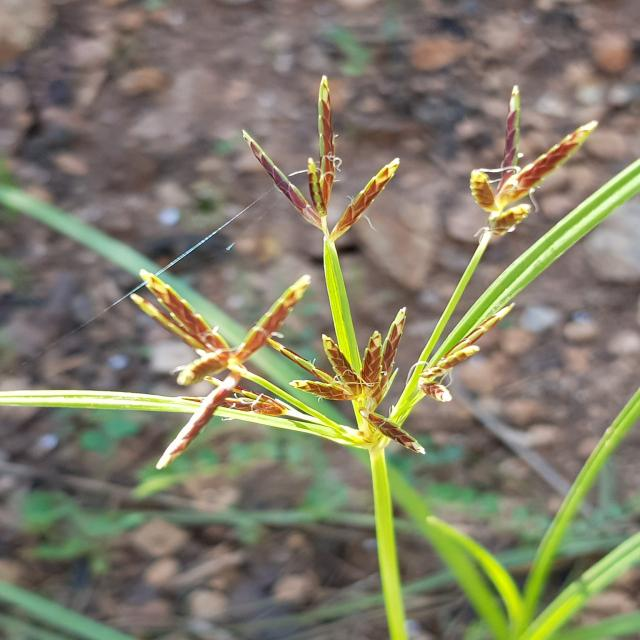cyperus: (108, 72, 606, 480)
